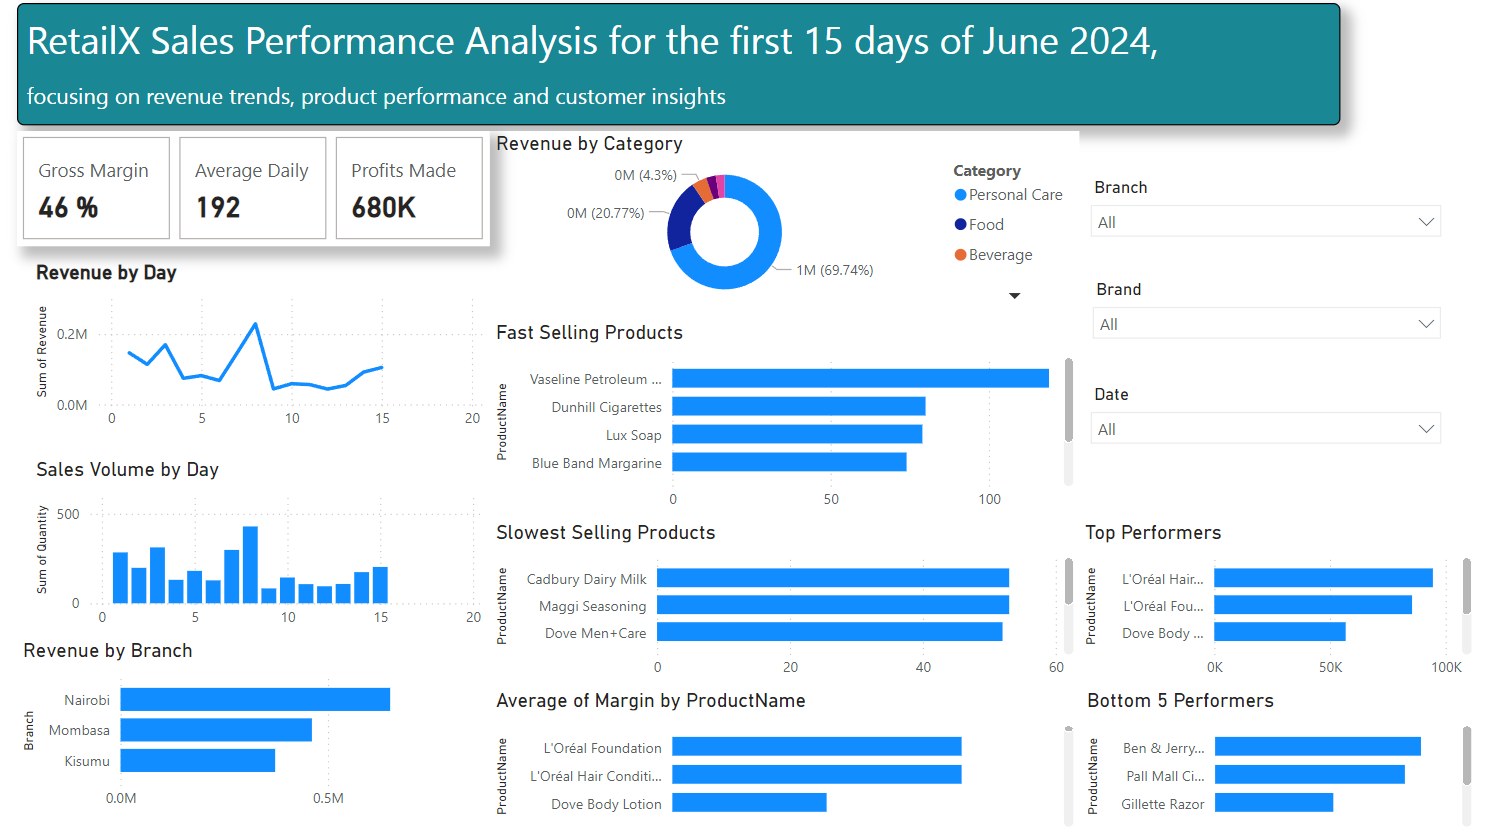

Layout of this report page (visuals, bound fields, positions):
{"tool":"powerbi","page":{"name":"Page 1","canvas":[1280,720],"ordinal":0},"visuals":[{"type":"textbox","box":[39.4,14.2,1124.6,104],"z":0},{"type":"lineChart","title":"Revenue by Day","fields":{"Category":["Transactions.Date.Variation.Date Hierarchy.Day"],"Y":["Sum(Transactions.Revenue)"]},"box":[50.4,233.1,390.6,152.8],"z":1000},{"type":"clusteredColumnChart","title":"Sales Volume by Day","fields":{"Category":["Transactions.Date.Variation.Date Hierarchy.Day"],"Y":["Sum(Transactions.Quantity)"]},"box":[50.4,400.1,390.6,154.4],"z":2000},{"type":"clusteredBarChart","fields":{"Category":["Customer data.Branch"],"Y":["Sum(Transactions.Revenue)"]},"box":[39.4,554.4,389,154.4],"z":3000},{"type":"donutChart","fields":{"Category":["Products.Category"],"Y":["Sum(Transactions.Revenue)"]},"box":[441,122.9,500.9,152.8],"z":4000},{"type":"clusteredBarChart","title":"Top Performers","fields":{"Category":["Products.ProductName"],"Y":["Sum(Transactions.Profits)"]},"box":[941.9,453.6,338.6,143.3],"z":5000},{"type":"clusteredBarChart","title":"Bottom 5 Performers","fields":{"Category":["Products.ProductName"],"Y":["Sum(Transactions.Profits)"]},"box":[943.5,597,337.1,122.9],"z":6000},{"type":"clusteredBarChart","title":"Fast Selling Products","fields":{"Category":["Products.ProductName"],"Y":["Sum(Transactions.Quantity)"]},"box":[441,283.5,500.9,170.1],"z":7000},{"type":"clusteredBarChart","title":"Slowest Selling Products","fields":{"Category":["Products.ProductName"],"Y":["Sum(Transactions.Quantity)"]},"box":[441,453.6,500.9,143.3],"z":8000},{"type":"cardVisual","fields":{"Data":["Products.Gross Margin","Transactions.Average Sales","Sum(Transactions.Profits)"]},"box":[39.4,122.9,401.6,97.7],"z":9000},{"type":"clusteredBarChart","fields":{"Category":["Products.ProductName"],"Y":["Avg(Products.Margin)"]},"box":[441,597,500.9,122.9],"z":9001},{"type":"slicer","fields":{"Values":["Customer data.Branch"]},"box":[941.8,158,318,101.3],"z":9002},{"type":"slicer","fields":{"Values":["Products.Brand"]},"box":[943.8,245.1,315.9,89.1],"z":9003},{"type":"slicer","fields":{"Values":["Transactions.Date"]},"box":[941.8,334.2,318,101.3],"z":9004}]}

Visuals, with their boxes in screenshot pixels (x1, y1, x2, y2), scaled from the page's 1280x720 canvas onto the 1509x832 screenshot:
textbox: Rect(46, 16, 1372, 137)
"Revenue by Day" lineChart: Rect(59, 269, 520, 446)
"Sales Volume by Day" clusteredColumnChart: Rect(59, 462, 520, 641)
clusteredBarChart - Customer data.Branch x Sum(Transactions.Revenue): Rect(46, 641, 505, 819)
donutChart - Products.Category x Sum(Transactions.Revenue): Rect(520, 142, 1110, 319)
"Top Performers" clusteredBarChart: Rect(1110, 524, 1508, 690)
"Bottom 5 Performers" clusteredBarChart: Rect(1112, 690, 1508, 831)
"Fast Selling Products" clusteredBarChart: Rect(520, 328, 1110, 524)
"Slowest Selling Products" clusteredBarChart: Rect(520, 524, 1110, 690)
cardVisual - Products.Gross Margin x Transactions.Average Sales: Rect(46, 142, 520, 255)
clusteredBarChart - Products.ProductName x Avg(Products.Margin): Rect(520, 690, 1110, 831)
slicer - Customer data.Branch: Rect(1110, 183, 1485, 300)
slicer - Products.Brand: Rect(1113, 283, 1485, 386)
slicer - Transactions.Date: Rect(1110, 386, 1485, 503)
